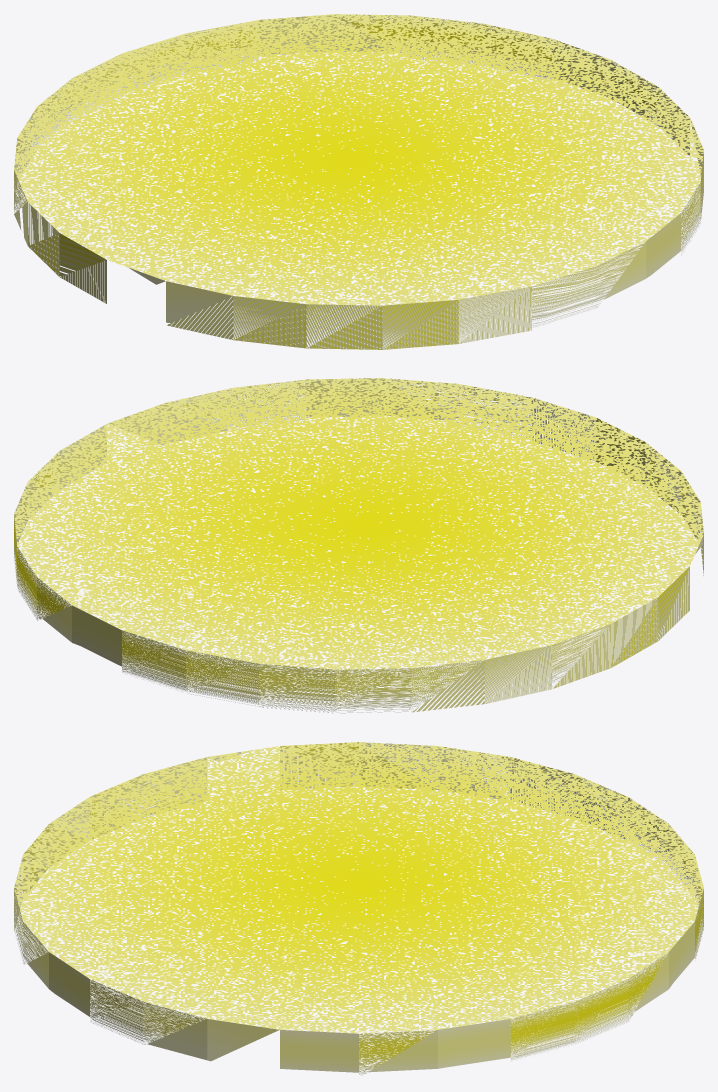
Rendered from pose.obj.
3 views of the same model, one above another, from view 1: azimuth 30°, elevation 25°; view 2: azimuth 150°, elevation 25°; view 3: azimuth 270°, elevation 25° (orthographic).
Parts seen in each view (by area): view 1: pose; view 2: pose; view 3: pose.
Part boxes in pixels (bbox=[...]): pose: bbox=[14, 14, 703, 349]; pose: bbox=[14, 378, 703, 713]; pose: bbox=[14, 742, 703, 1075].
Size of the model in its own units: 1.29 by 0.0909 by 1.29.
1 material, 1 textured.
